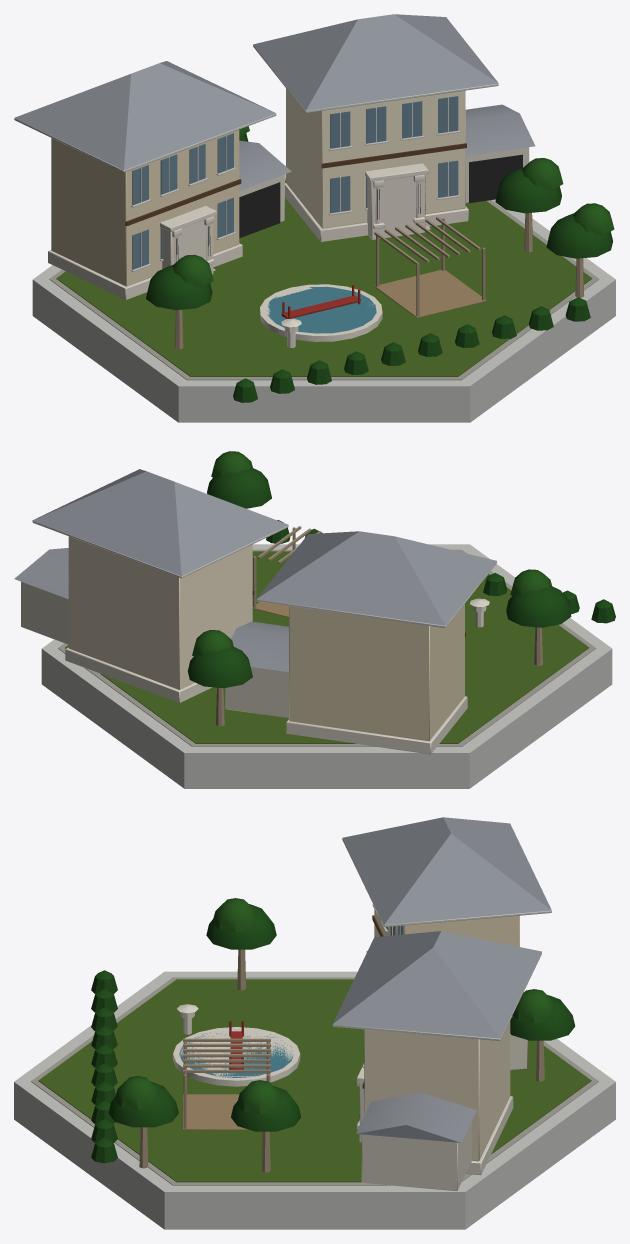
The model's file is luxuryVillas_asia.glb.
The picture shows the model from 3 angles, top to bottom: view 1: azimuth 30°, elevation 25°; view 2: azimuth 150°, elevation 25°; view 3: azimuth 270°, elevation 25°; orthographic projection. The views are drawn at different scales.
Parts seen in each view (by area): view 1: turf, roof_slate, wall_concrete, plaster, leaf, stone, glass, wood, dark, pavers, cladding, paint; view 2: plaster, roof_slate, wall_concrete, turf, leaf, stone, cladding, pavers, wood; view 3: turf, roof_slate, wall_concrete, leaf, plaster, wood, cladding, stone, pavers, glass.
Part boxes in pixels (x1=…): turf: x1=56, y1=180, x2=592, y2=376; roof_slate: x1=14, y1=14, x2=535, y2=191; wall_concrete: x1=14, y1=45, x2=615, y2=422; plaster: x1=51, y1=88, x2=465, y2=286; leaf: x1=146, y1=126, x2=614, y2=402; stone: x1=48, y1=163, x2=468, y2=347; glass: x1=132, y1=96, x2=458, y2=333; wood: x1=125, y1=143, x2=584, y2=349; dark: x1=176, y1=154, x2=522, y2=261; pavers: x1=49, y1=178, x2=599, y2=380; cladding: x1=239, y1=147, x2=529, y2=222; paint: x1=281, y1=284, x2=360, y2=318; plaster: x1=68, y1=536, x2=464, y2=741; roof_slate: x1=14, y1=469, x2=496, y2=672; wall_concrete: x1=32, y1=521, x2=612, y2=788; turf: x1=65, y1=551, x2=589, y2=743; leaf: x1=187, y1=451, x2=615, y2=688; stone: x1=65, y1=598, x2=489, y2=754; cladding: x1=21, y1=581, x2=288, y2=718; pavers: x1=58, y1=549, x2=596, y2=746; wood: x1=216, y1=526, x2=542, y2=726; turf: x1=38, y1=979, x2=591, y2=1182; roof_slate: x1=333, y1=817, x2=551, y2=1142; wall_concrete: x1=14, y1=839, x2=615, y2=1229; leaf: x1=91, y1=898, x2=575, y2=1163; plaster: x1=364, y1=909, x2=519, y2=1161; wood: x1=139, y1=915, x2=544, y2=1172; cladding: x1=361, y1=1034, x2=527, y2=1190; stone: x1=173, y1=950, x2=513, y2=1175; pavers: x1=31, y1=977, x2=598, y2=1185; glass: x1=179, y1=925, x2=403, y2=1077.
Bounding box in the file's own units: 22.78 × 10.65 × 24.6.
